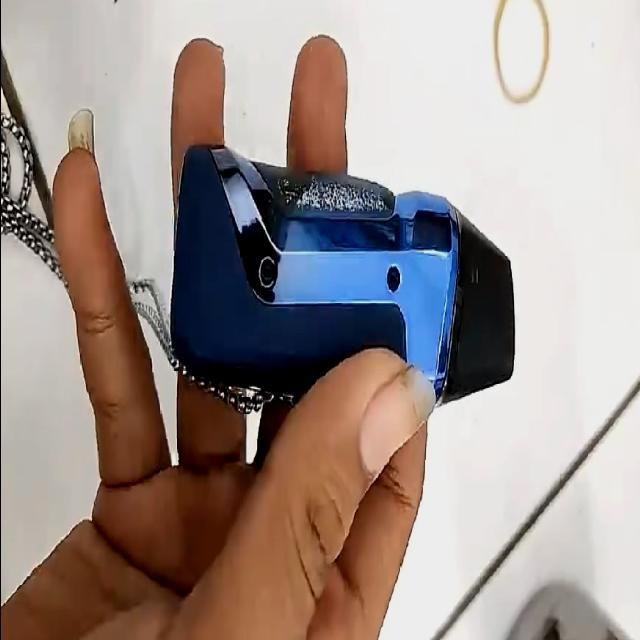Hazard: (170, 146, 517, 408)
